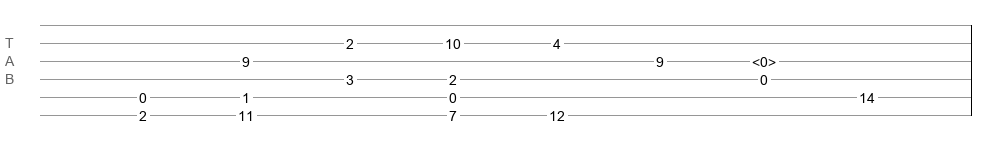0: (139, 90, 147, 100), (449, 90, 457, 100), (760, 72, 768, 82)
1: (242, 90, 250, 100)
10: (445, 36, 461, 46)
11: (238, 108, 254, 118)
12: (549, 108, 565, 118)
14: (859, 90, 875, 100)
2: (139, 108, 147, 118), (346, 36, 354, 46), (449, 72, 457, 82)
3: (346, 72, 354, 82)
4: (553, 36, 561, 46)
7: (449, 108, 457, 118)
9: (242, 54, 250, 64), (656, 54, 664, 64)
harmonic: (752, 54, 776, 64)
